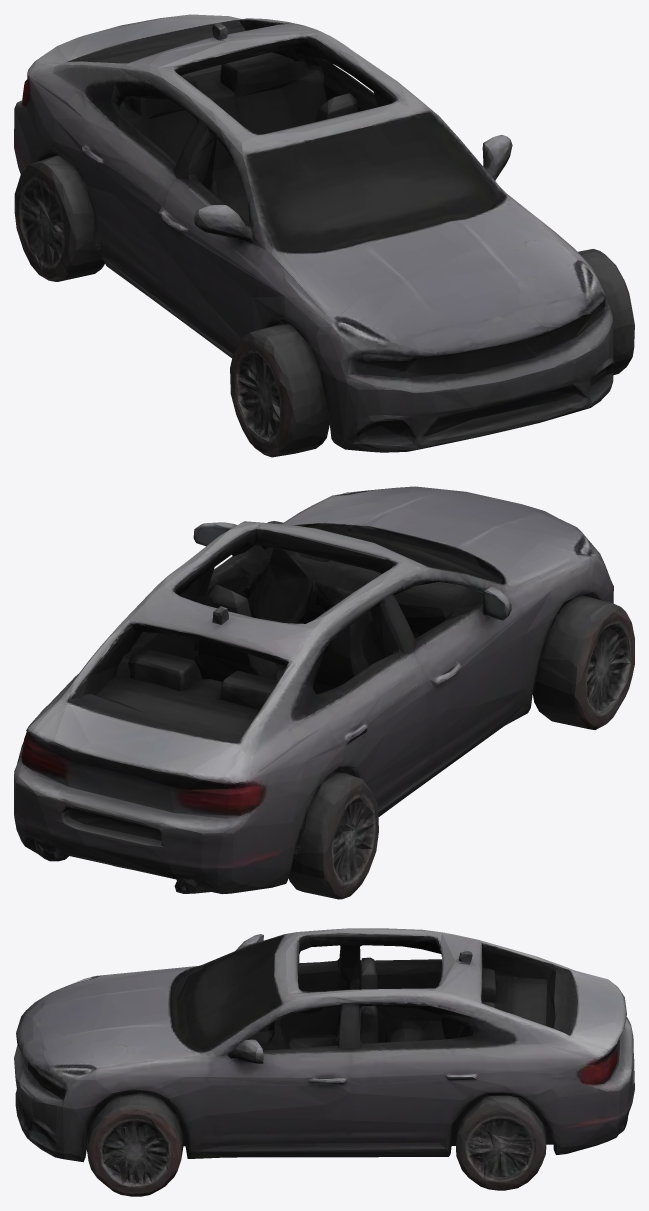
File: car_sedan_grey.glb
3 views of the same model, one above another, from view 1: azimuth 30°, elevation 25°; view 2: azimuth 150°, elevation 25°; view 3: azimuth 270°, elevation 25° (orthographic). The views are drawn at different scales.
Visible parts, largest first — view 1: geometry_0; view 2: geometry_0; view 3: geometry_0.
Boxes of the visible parts, x1,y1,x2,y2 form: geometry_0: [14, 14, 634, 457]; geometry_0: [14, 486, 634, 899]; geometry_0: [14, 928, 634, 1196].
Size of the model in its own units: 0.5078 by 0.3218 by 0.9987.
Materials: 1 (1 with a texture image).
